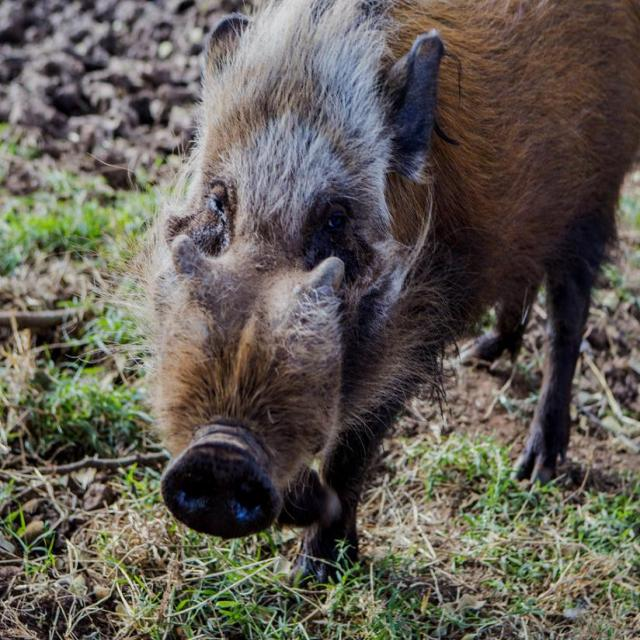pig: (145, 3, 640, 579)
